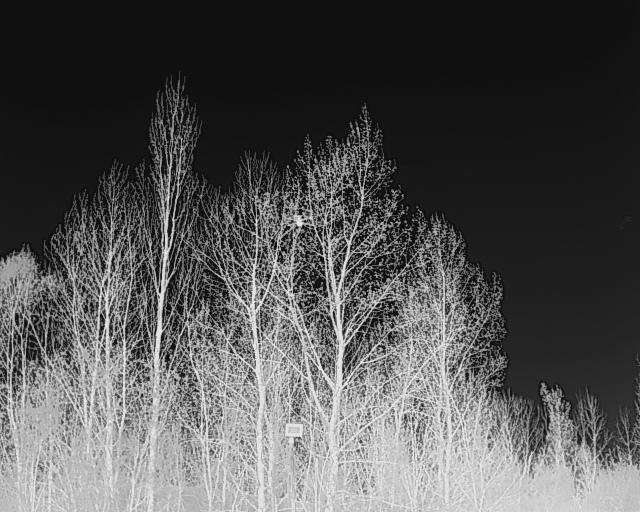drone: (277, 211, 322, 234)
